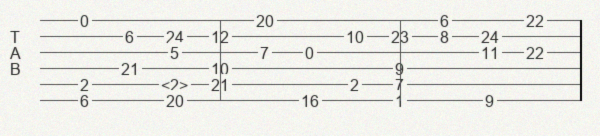0: (80, 12, 93, 28), (305, 44, 318, 60)
1: (395, 92, 408, 108)
10: (211, 60, 233, 76), (346, 28, 368, 44)
11: (481, 44, 503, 60)
12: (211, 28, 233, 44)
16: (301, 92, 323, 108)
2: (80, 76, 93, 92), (350, 76, 363, 92)
20: (166, 92, 188, 108), (256, 12, 278, 28)
21: (121, 60, 143, 76), (211, 76, 233, 92)
22: (526, 12, 548, 28), (526, 44, 548, 60)
23: (391, 28, 413, 44)
24: (166, 28, 188, 44), (481, 28, 503, 44)
5: (170, 44, 183, 60)
6: (80, 92, 93, 108), (125, 28, 138, 44), (440, 12, 453, 28)
7: (260, 44, 273, 60), (395, 76, 408, 92)
8: (440, 28, 453, 44)
9: (395, 60, 408, 76), (485, 92, 498, 108)
harmonic: (161, 76, 192, 92)
